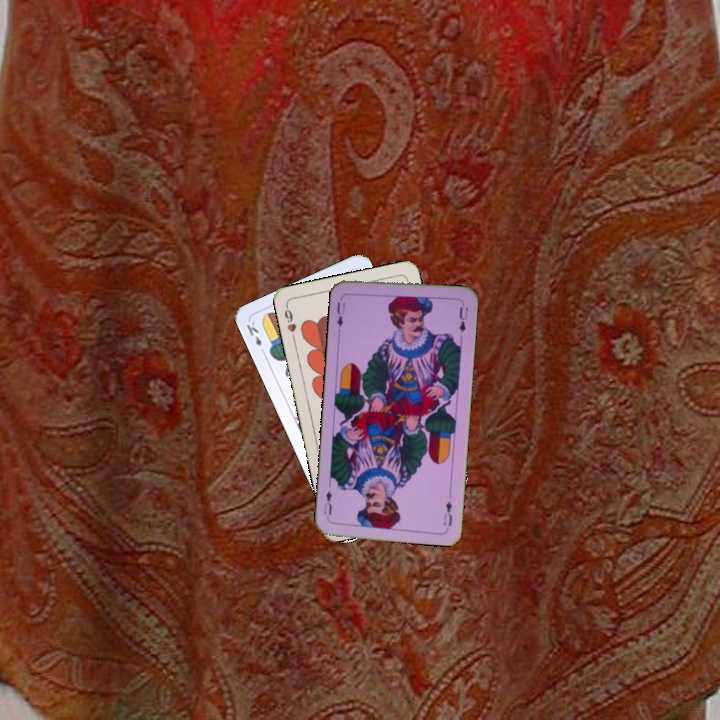EK: (242, 317, 268, 357)
EU: (439, 489, 455, 528), (333, 292, 348, 333)
H9: (280, 301, 299, 341)
